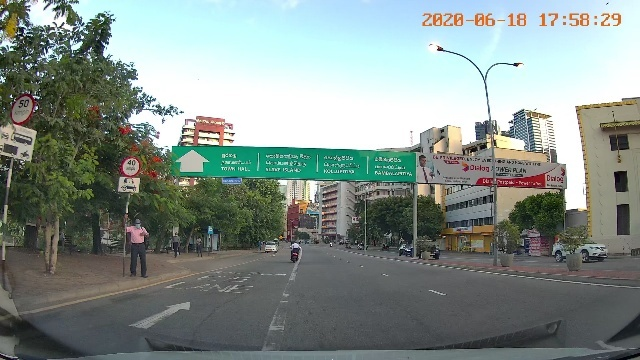BL: (162, 273, 255, 296)
SA: (126, 298, 192, 330)
